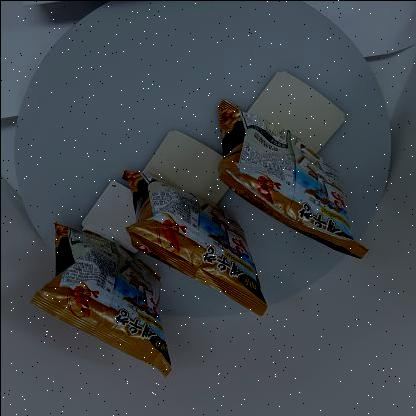Others: (28, 94, 376, 382)
